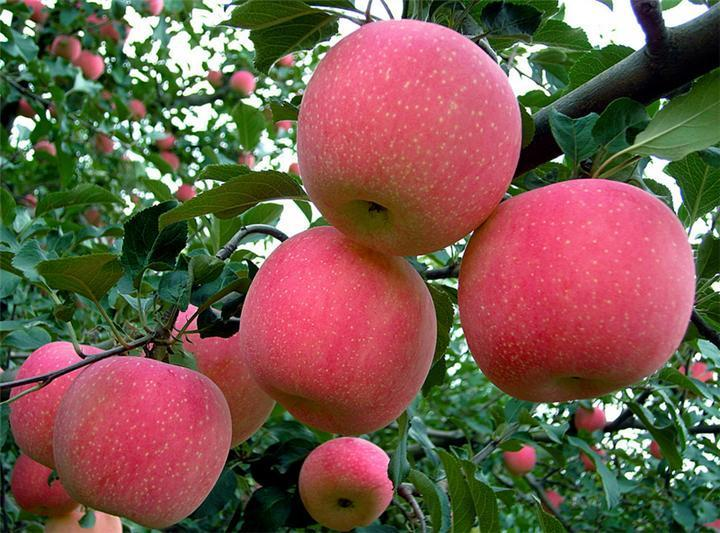apple: (290, 21, 523, 253), (456, 180, 695, 403), (204, 226, 439, 434), (51, 349, 236, 527), (298, 435, 395, 526), (52, 34, 107, 81), (268, 53, 302, 83), (73, 50, 105, 80), (504, 445, 536, 475), (50, 34, 82, 62), (229, 70, 256, 97)
